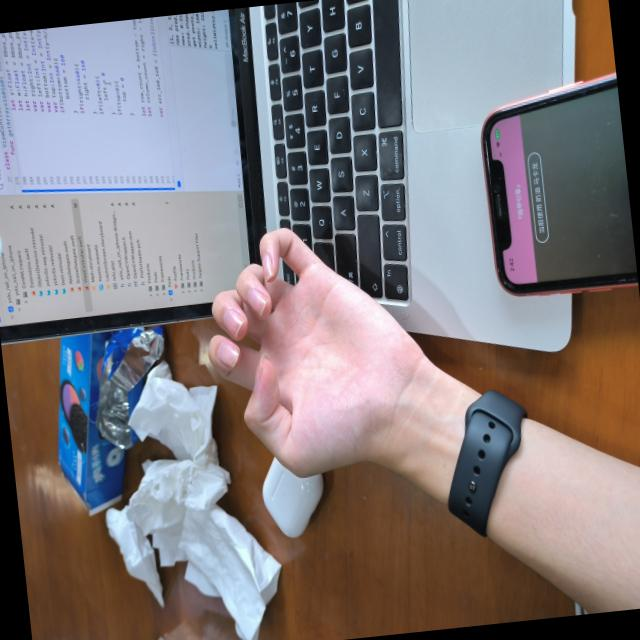Nail: (222, 307, 245, 336), (246, 286, 267, 315), (217, 341, 239, 367), (262, 252, 274, 281), (253, 353, 262, 390)
